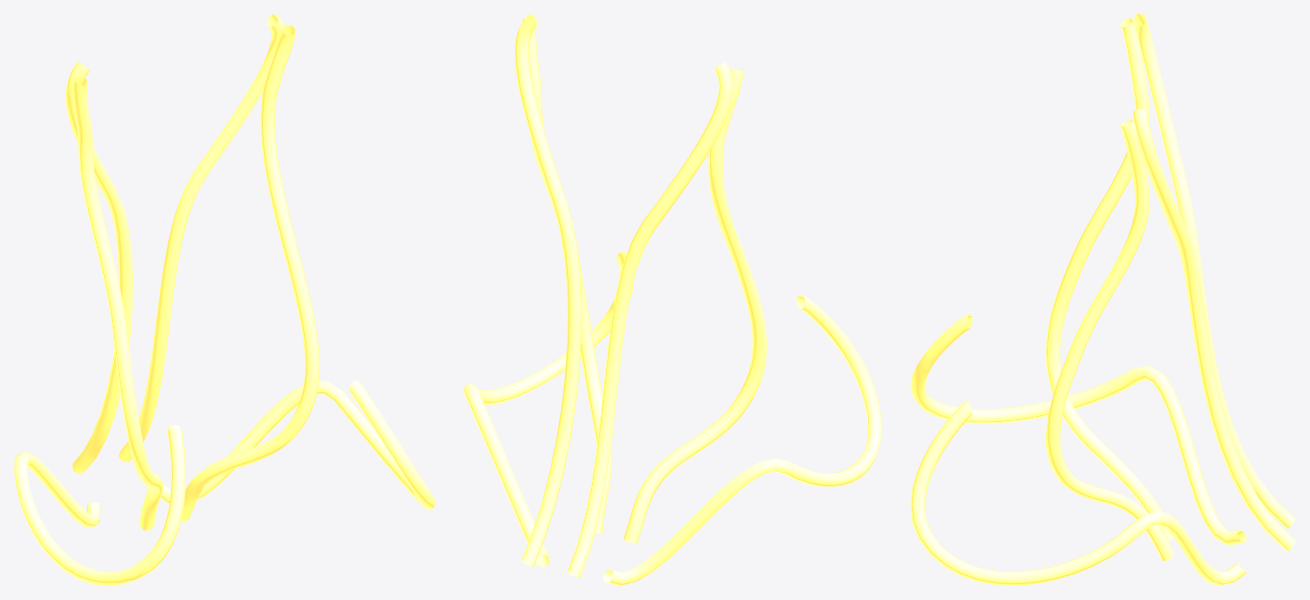
Rendered from 19.-CablesAtras.fbx.
3 renders of one model, left to right at view 1: azimuth 30°, elevation 25°; view 2: azimuth 150°, elevation 25°; view 3: azimuth 270°, elevation 25°, orthographic.
Parts seen in each view (by area): view 1: 06.-CablesAtras; view 2: 06.-CablesAtras; view 3: 06.-CablesAtras.
Part boxes in pixels (x1=…): 06.-CablesAtras: x1=14, y1=14, x2=435, y2=585; 06.-CablesAtras: x1=464, y1=14, x2=881, y2=585; 06.-CablesAtras: x1=910, y1=14, x2=1295, y2=585.
Bounding box in the file's own units: 554 × 756 × 525.
